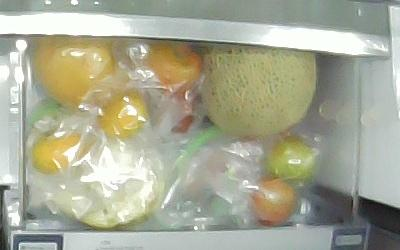cabbage_vinyl: (53, 176, 162, 230)
melon: (201, 44, 316, 135)
pear_vinyl: (33, 36, 117, 108)
prune_vinyl: (146, 42, 202, 99)
tangerine_vinyl: (98, 91, 147, 140), (32, 128, 84, 174)
tomato_vinyl: (266, 136, 315, 183), (251, 175, 294, 228)
